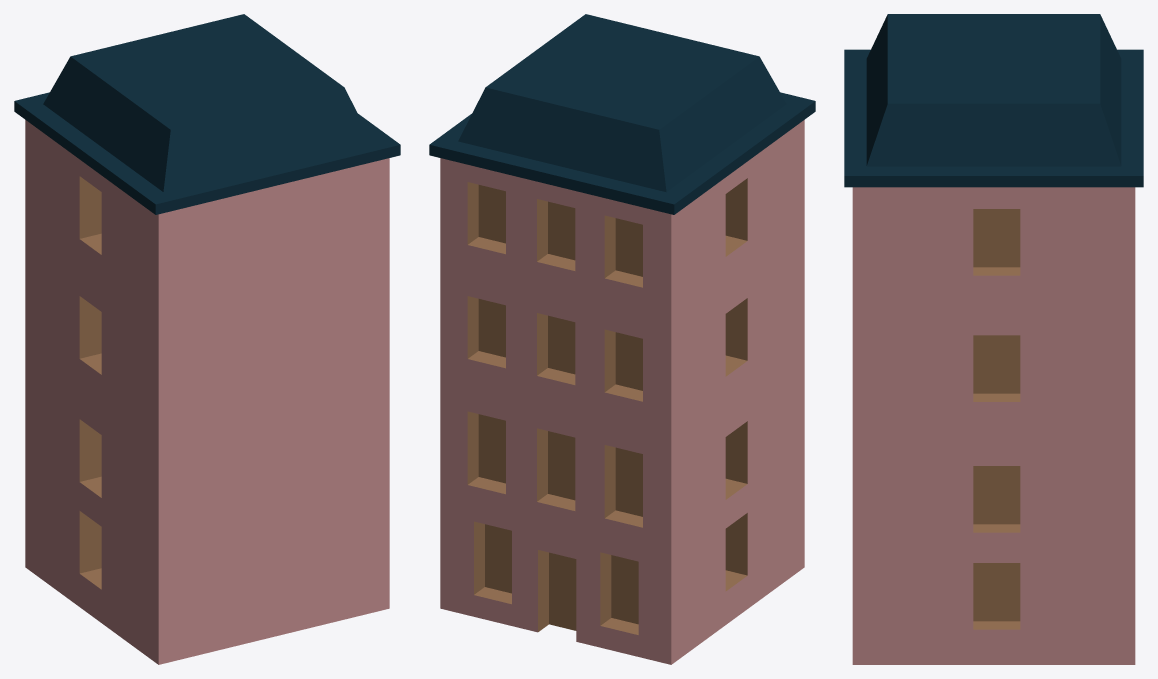
The model's file is building 4.fbx.
3 views of the same model, side by side, from view 1: azimuth 30°, elevation 25°; view 2: azimuth 150°, elevation 25°; view 3: azimuth 270°, elevation 25° (orthographic). The views are drawn at different scales.
Parts seen in each view (by area): view 1: Cube.402; view 2: Cube.402; view 3: Cube.402.
Boxes of the visible parts, x1,y1,x2,y2 form: Cube.402: (14,14,400,664); Cube.402: (429,14,815,664); Cube.402: (844,14,1143,664).
Bounding box in the file's own units: 21.77 × 43.83 × 21.77.
1 material, 1 textured.
